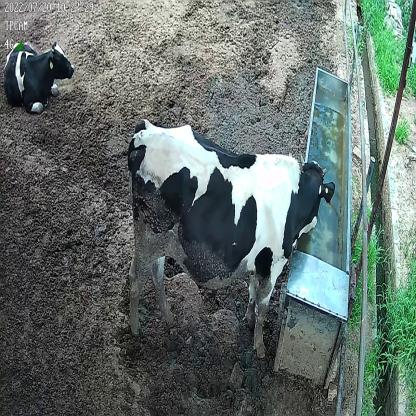cow: (125, 115, 338, 361), (2, 32, 75, 118)
